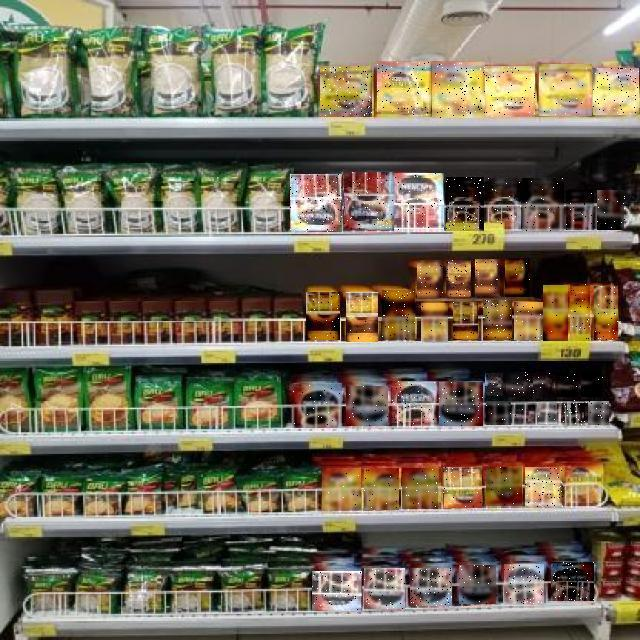Coffee: (290, 174, 342, 232), (432, 62, 485, 118), (344, 172, 394, 230), (394, 174, 444, 232), (377, 62, 429, 116), (539, 64, 592, 116), (320, 66, 372, 117), (485, 66, 535, 117), (522, 178, 564, 231), (293, 384, 343, 428), (593, 68, 639, 115), (447, 177, 485, 231), (392, 381, 436, 427), (312, 571, 362, 611), (439, 382, 483, 426), (485, 178, 523, 228), (364, 568, 405, 609), (346, 386, 388, 426), (551, 562, 594, 601), (382, 291, 415, 341), (322, 468, 361, 510), (567, 466, 605, 509), (306, 292, 340, 340), (504, 564, 544, 604), (347, 292, 379, 342), (443, 467, 482, 508), (410, 568, 452, 606), (526, 468, 564, 508), (460, 565, 498, 604), (402, 468, 438, 509), (364, 468, 399, 510), (487, 468, 523, 508), (543, 285, 568, 341), (594, 286, 618, 340), (483, 300, 512, 340), (570, 284, 590, 341), (566, 190, 594, 230), (598, 190, 626, 230), (514, 302, 543, 340), (421, 303, 448, 342), (506, 258, 532, 297), (476, 260, 502, 298), (417, 260, 443, 298), (446, 260, 471, 298), (453, 302, 478, 340), (564, 400, 588, 426), (486, 401, 511, 425), (512, 402, 536, 426), (507, 373, 530, 397), (556, 372, 578, 397), (582, 372, 604, 397), (588, 401, 609, 425), (533, 374, 552, 398), (538, 402, 557, 424), (485, 373, 503, 396)
